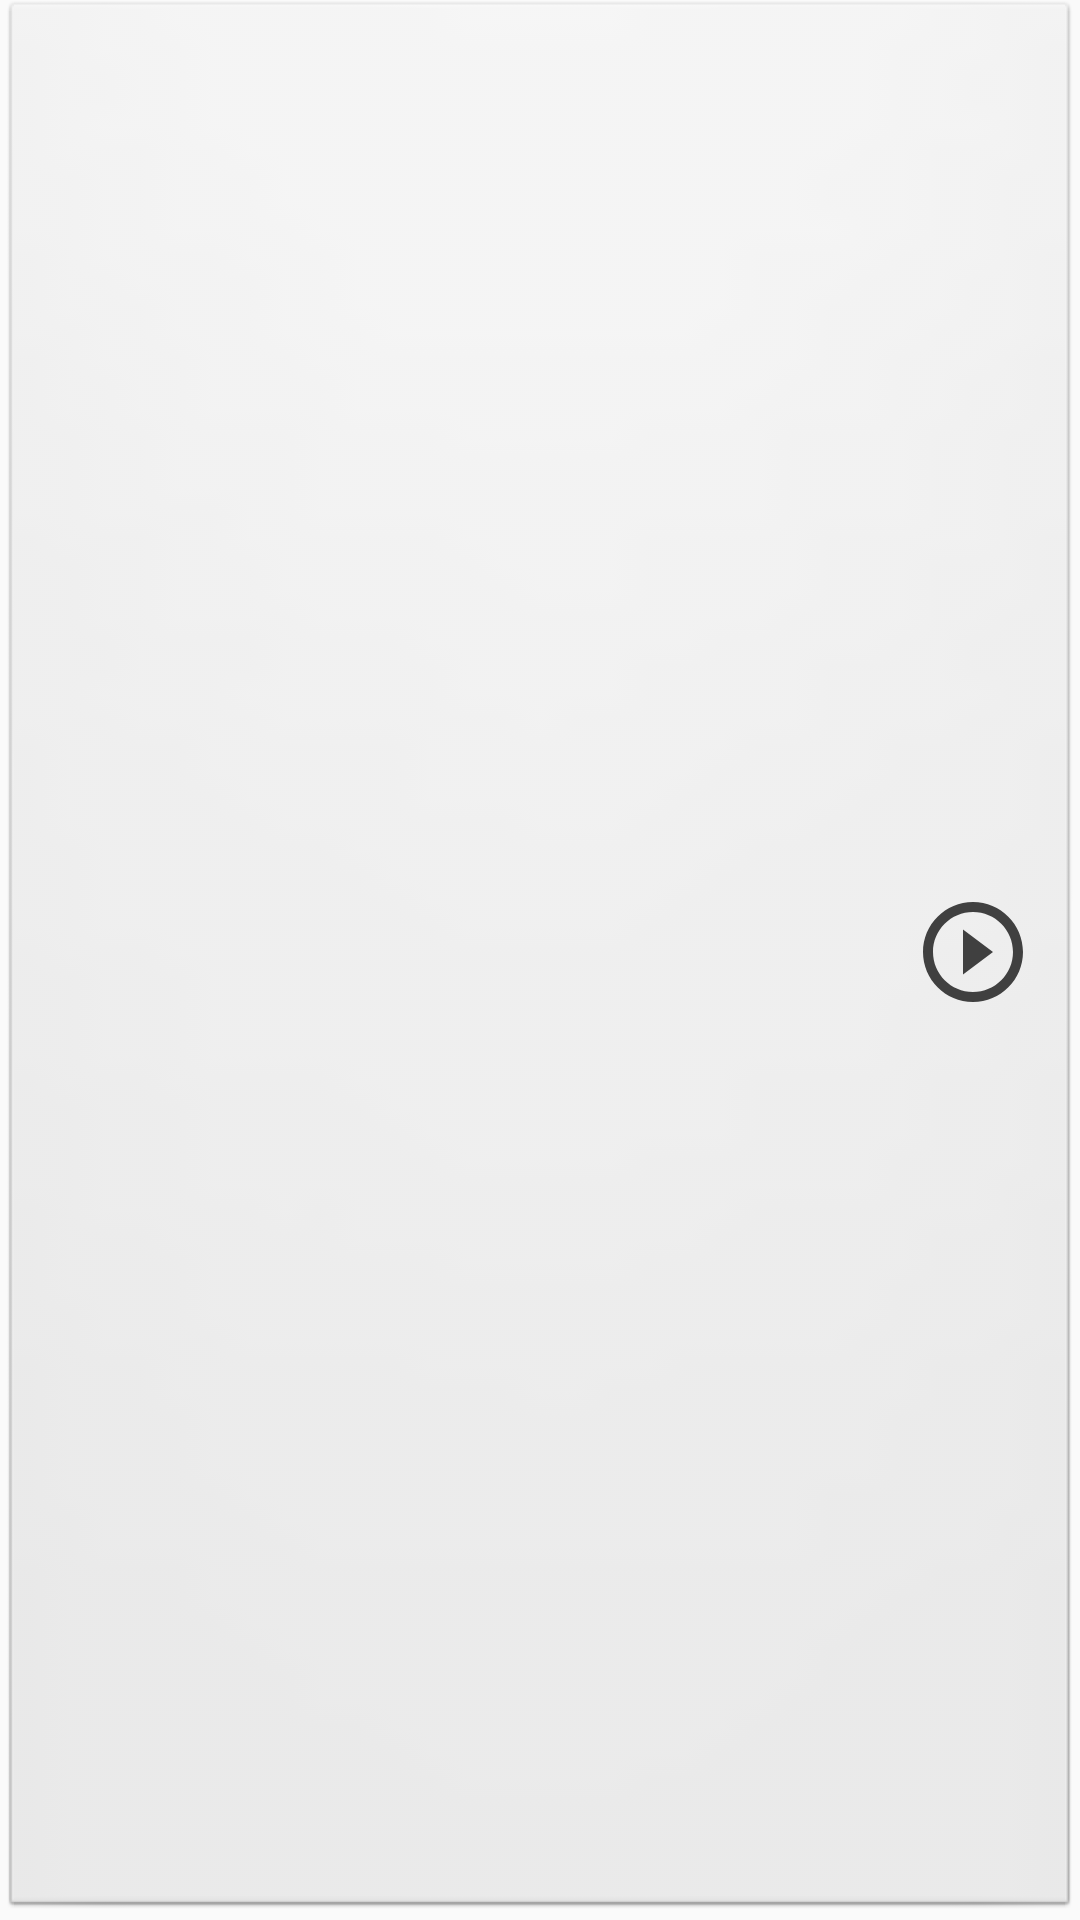

Icon click points for this 1080×1920 phone screenshot, format (x=x, y=y):
play circle: (x=973, y=952)
